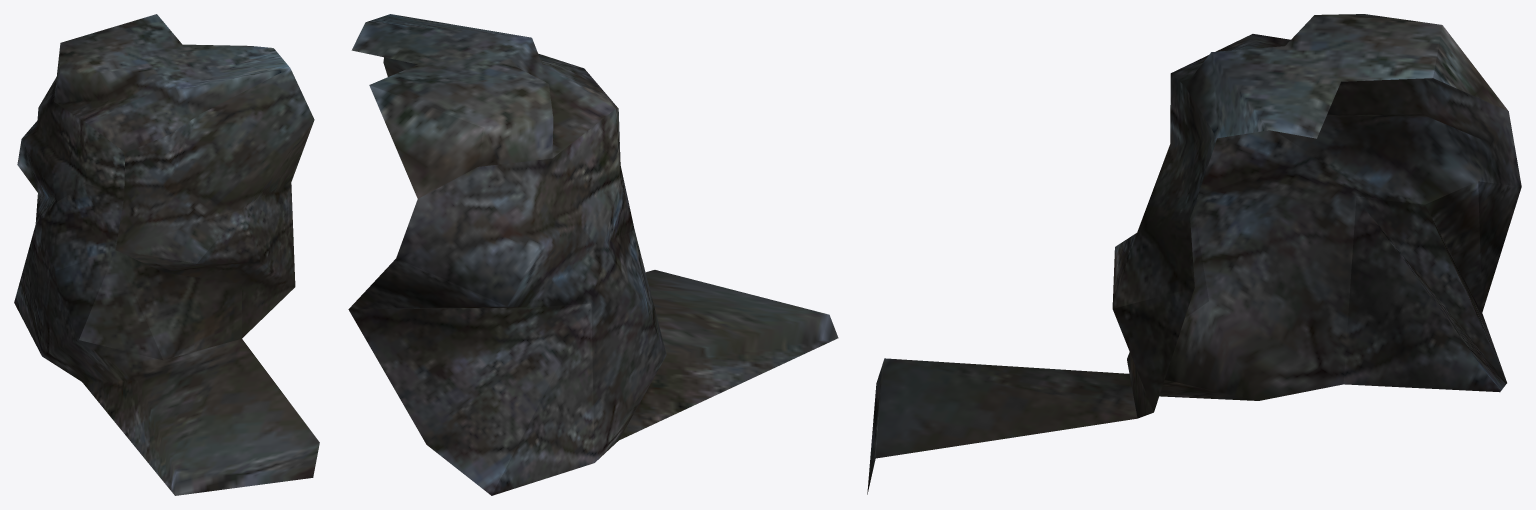
File: S_Rock_Yellow034_33.FBX
3 views of the same model, side by side, from view 1: azimuth 30°, elevation 25°; view 2: azimuth 150°, elevation 25°; view 3: azimuth 270°, elevation 25° (orthographic). The views are drawn at different scales.
Visible parts, largest first — view 1: S_Rock_Yellow034_33; view 2: S_Rock_Yellow034_33; view 3: S_Rock_Yellow034_33.
Part boxes in pixels (left/top/right/bottom): S_Rock_Yellow034_33: left=14, top=14, right=319, bottom=495; S_Rock_Yellow034_33: left=348, top=14, right=838, bottom=495; S_Rock_Yellow034_33: left=867, top=14, right=1521, bottom=494.
Size of the model in its own units: 114 by 181 by 136.
